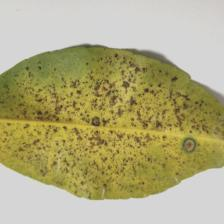canker: (31, 66, 201, 170)
